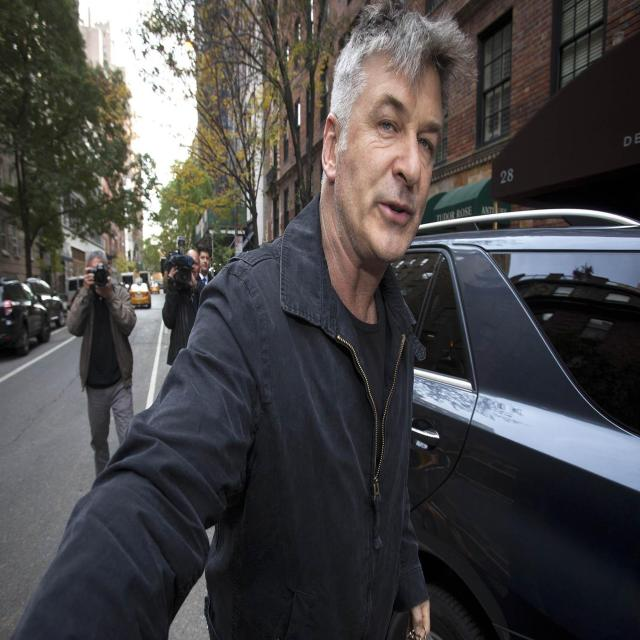no-earmuff: (309, 101, 356, 195)
